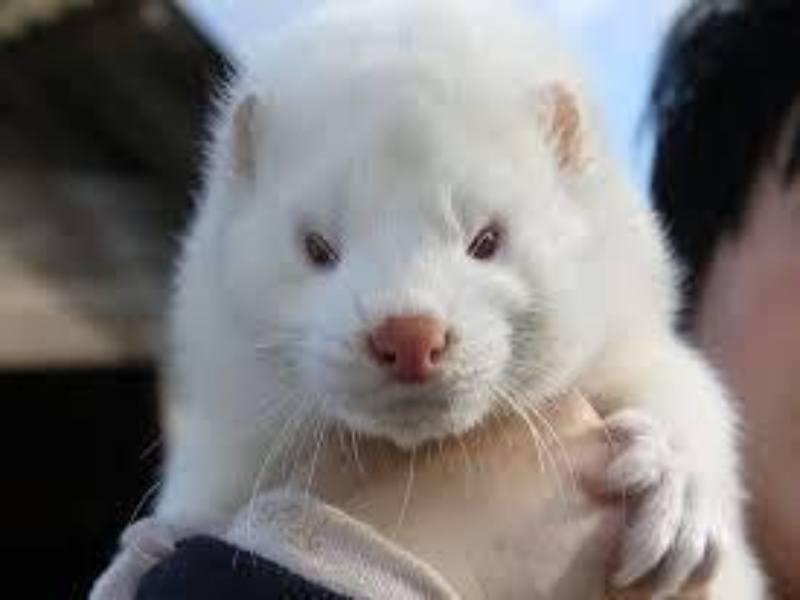minkish: (150, 9, 746, 591)
